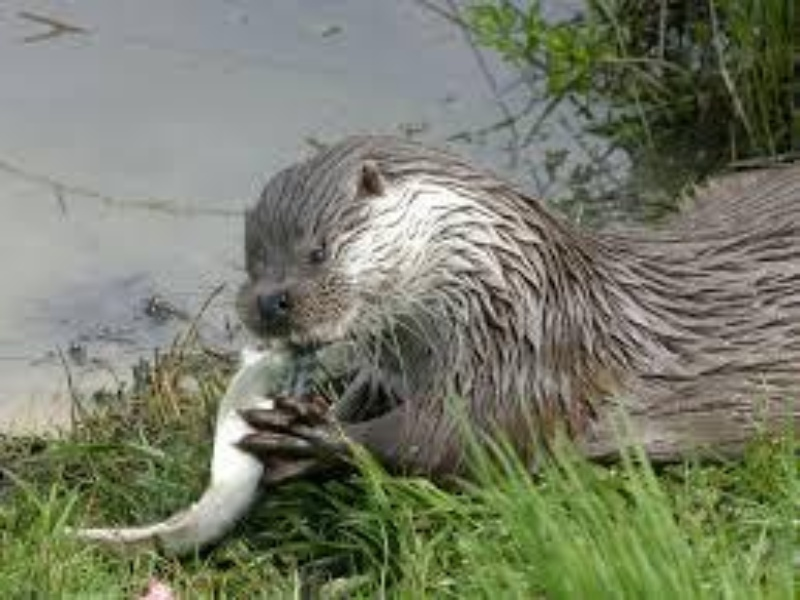minkish: (237, 135, 800, 507)
